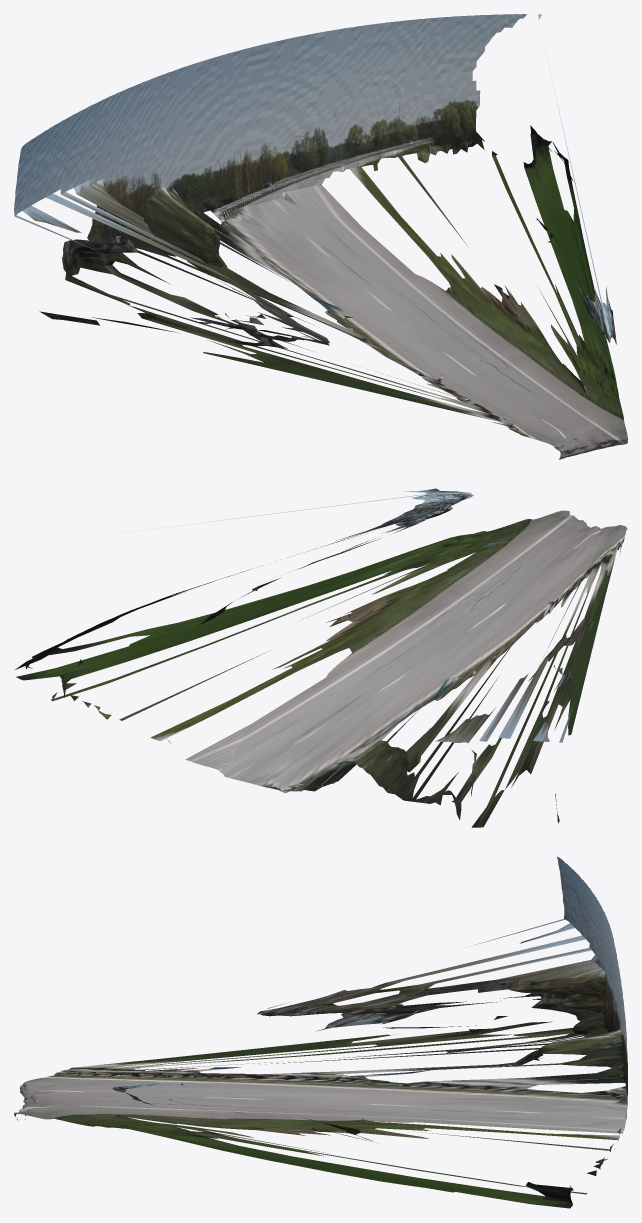
The picture shows the model from 3 angles, top to bottom: view 1: azimuth 30°, elevation 25°; view 2: azimuth 150°, elevation 25°; view 3: azimuth 270°, elevation 25°; orthographic projection. The views are drawn at different scales.
Parts seen in each view (by area): view 1: defaultobject; view 2: defaultobject; view 3: defaultobject.
Part boxes in pixels (x1,y1,x2,y2): defaultobject: (14,14,627,459); defaultobject: (15,488,627,827); defaultobject: (14,856,627,1208).
Size of the model in its own units: 40.39 by 12.69 by 44.64.
Materials: 1 (1 with a texture image).
